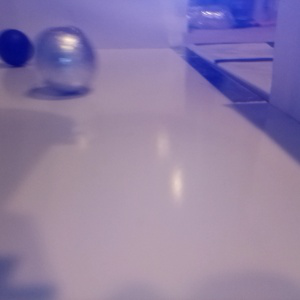alive_ball: (35, 27, 93, 91)
dead_ball: (1, 27, 32, 66)
